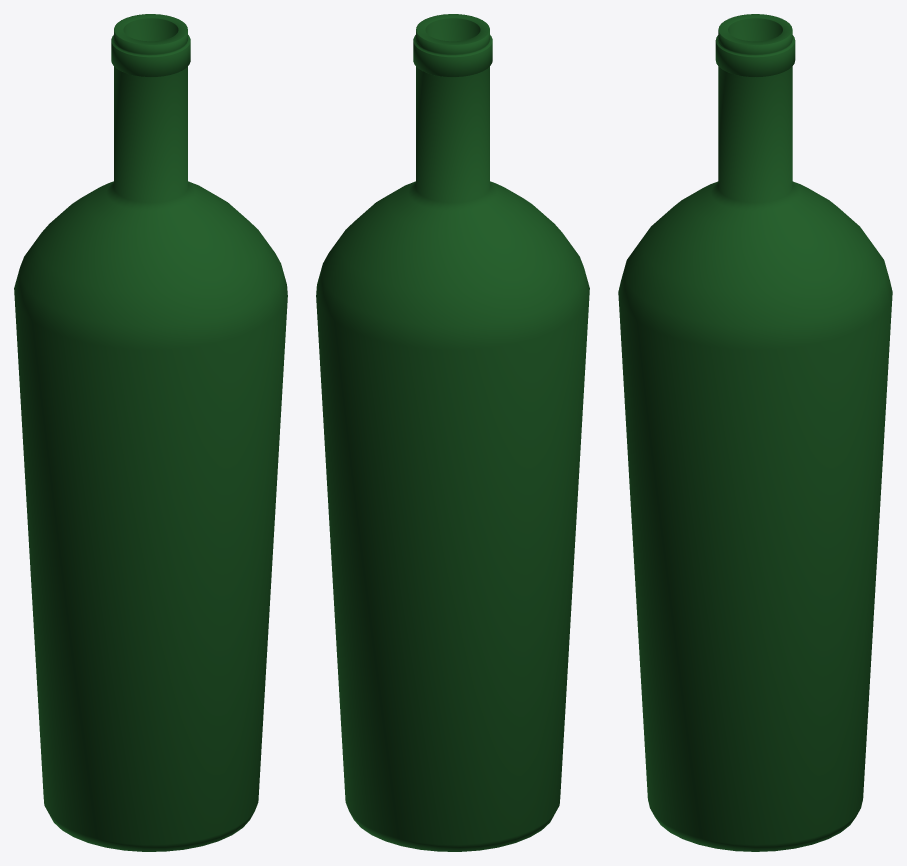
Rendered from BotellaVidrio.fbx.
3 renders of one model, left to right at view 1: azimuth 30°, elevation 25°; view 2: azimuth 150°, elevation 25°; view 3: azimuth 270°, elevation 25°, orthographic.
Visible parts, largest first — view 1: BotellaVino; view 2: BotellaVino; view 3: BotellaVino.
Boxes of the visible parts, left/top/right/bottom form: BotellaVino: left=14, top=14, right=287, bottom=851; BotellaVino: left=316, top=14, right=589, bottom=851; BotellaVino: left=618, top=14, right=892, bottom=851.
Size of the model in its own units: 200 by 627 by 200.
